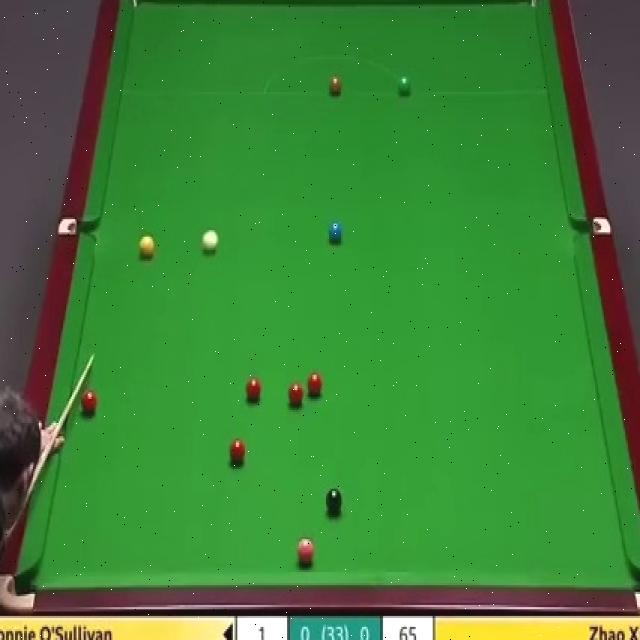black-ball: (325, 490, 342, 514)
blue-ball: (327, 217, 344, 242)
brown-ball: (328, 72, 342, 94)
green-ball: (397, 76, 412, 98)
pink-ball: (297, 540, 316, 565)
red-ball: (244, 371, 265, 406), (79, 386, 99, 418), (228, 436, 246, 466), (306, 370, 325, 396), (287, 382, 305, 407)
white-ball: (202, 227, 219, 256)
yellow-ball: (138, 235, 157, 259)
